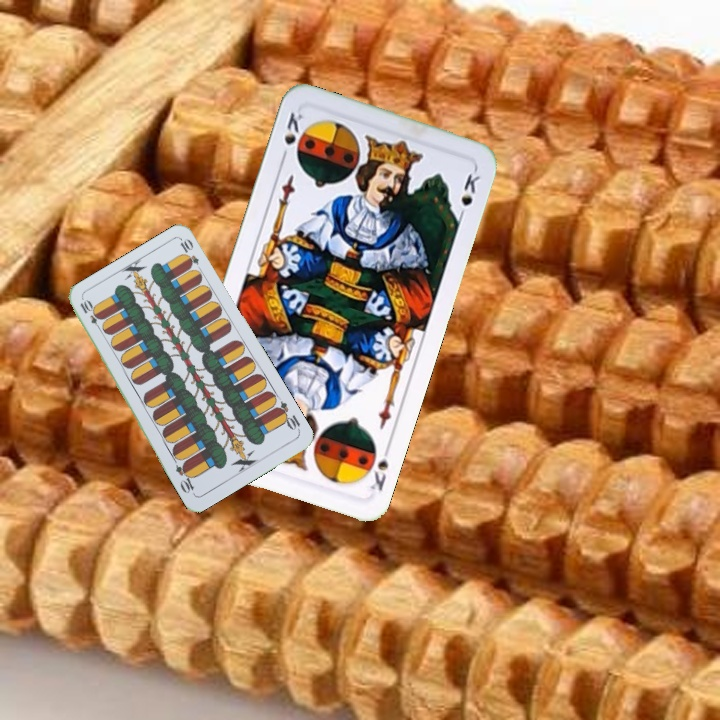E10: (271, 397, 303, 434), (76, 296, 105, 334)
SK: (277, 107, 306, 164), (366, 440, 393, 494)
